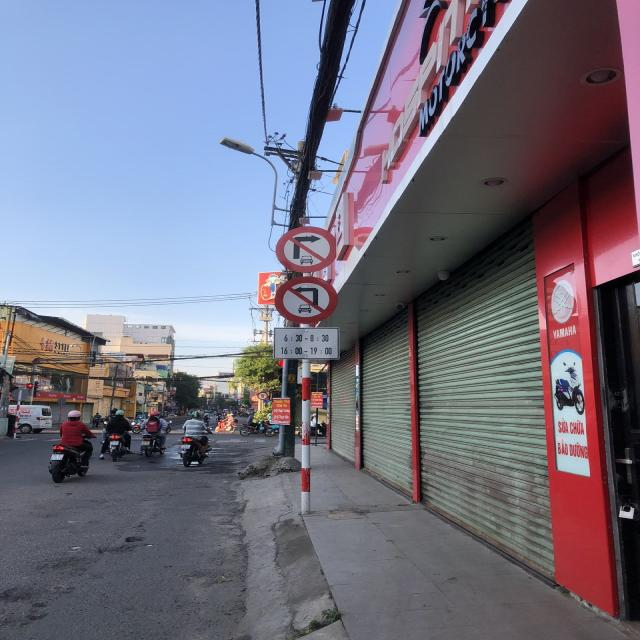Bien bao cam xe o to re phai: (270, 219, 342, 274)
Bien bao cam xe o to re trai: (269, 274, 346, 326)
